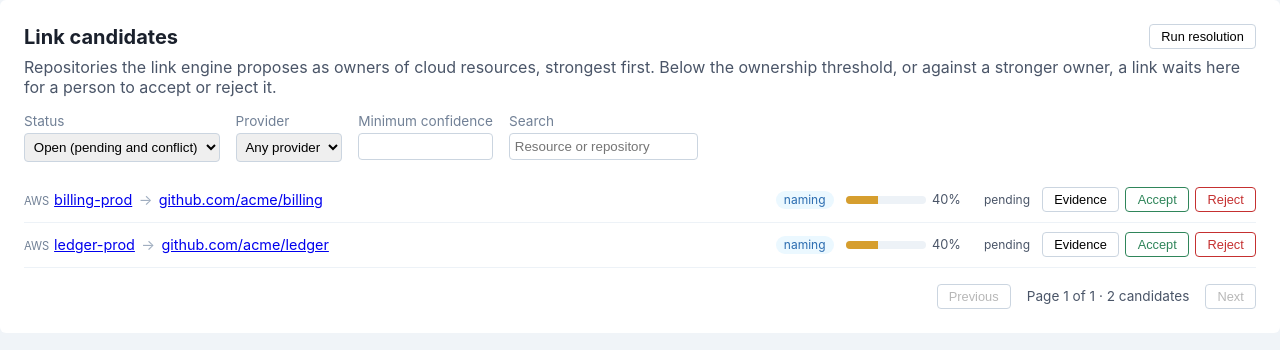
Test: CandidateLinksView › accepts a candidate and lists the candidates again without it
This screenshot has width=1280, height=350.
Click the button with test id "accept" in the row of "github.com/acme/billing" at [1157, 200], box [1126,187,1189,212]
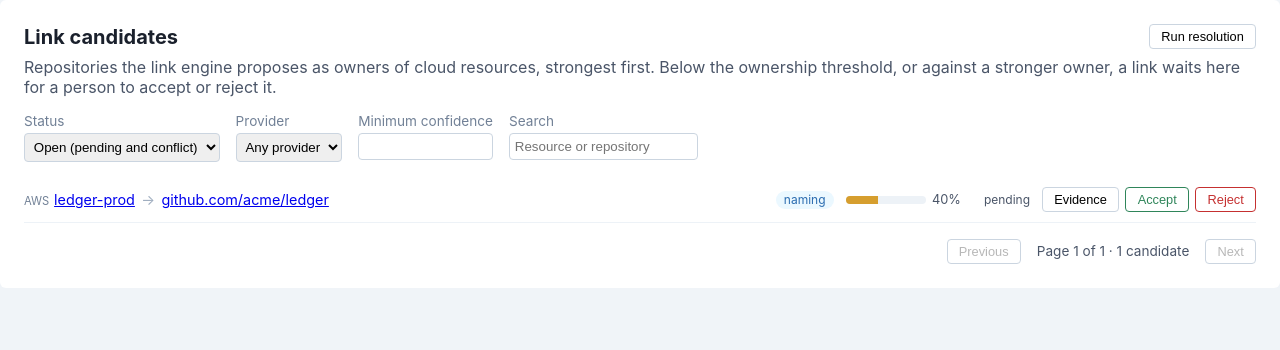
Now the number of list items with test id "candidate" is 1, box [24,178,1256,223]
Now the text "billing-prod" is gone
